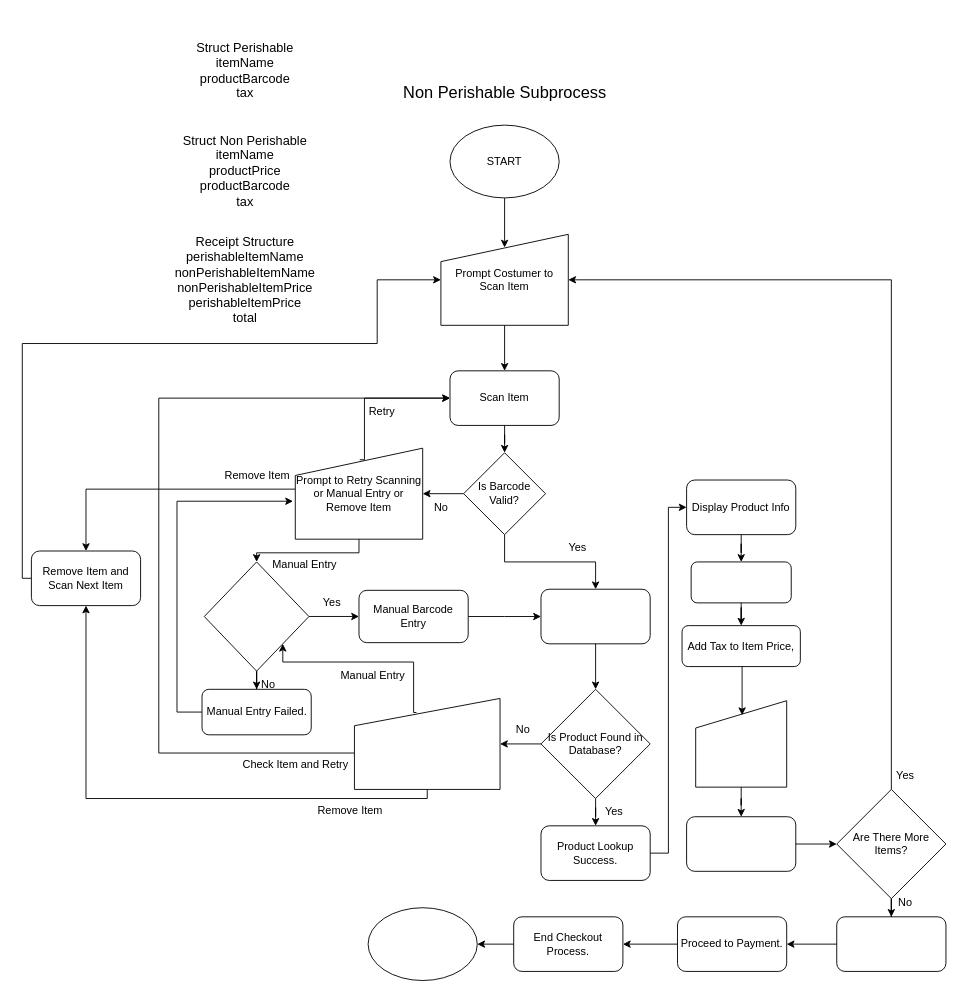
The diagram is 962 pixels wide and 996 high, and some of its shapes have lost their labels. The box of each missing label's shape, as (x1, y1, x2, y2) in pixels:
Calculate Tax.: (690, 561, 791, 603)
Can Customer Provide Manual Entry?: (203, 561, 309, 671)
Confirm Item and Add to Basket.: (695, 700, 787, 787)
END: (367, 907, 477, 981)
Finalize Basket: (836, 916, 946, 971)
Lookup Product Info via Black Box Database.: (540, 588, 650, 644)
Prompt to Check Item or Manual Entry or Remove Item: (354, 698, 500, 789)
Update Subtotal: (686, 816, 796, 871)
